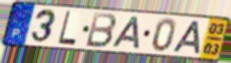0: (151, 17, 178, 54)
3: (30, 7, 58, 45)
A: (170, 20, 202, 56), (110, 15, 141, 51)
B: (84, 12, 118, 50)
L: (56, 10, 78, 47)
